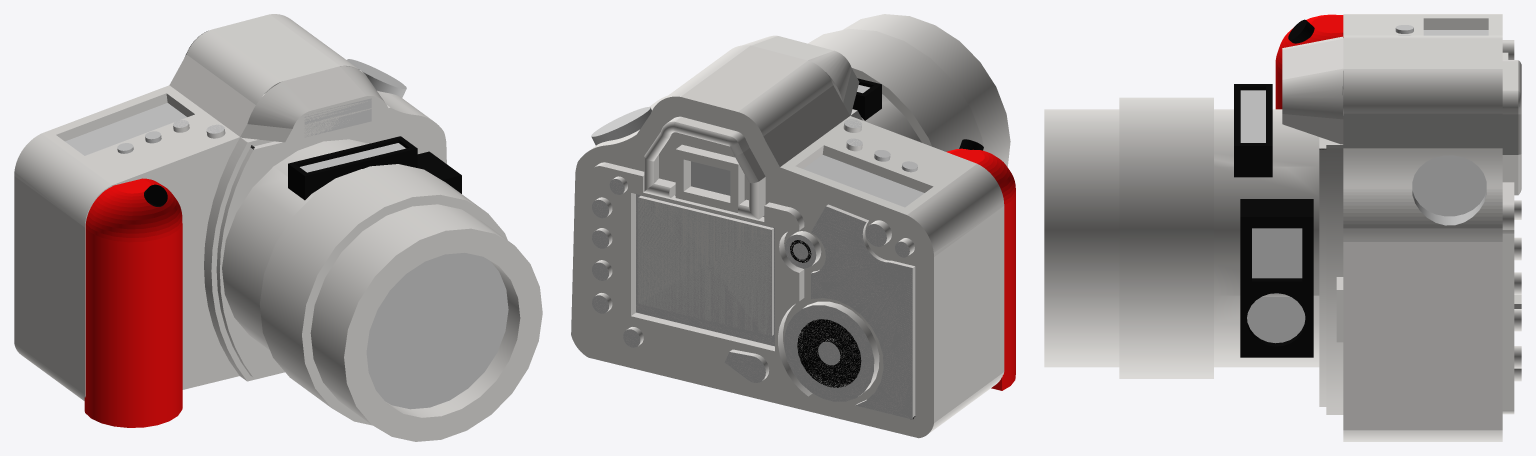
Rendered from model_align.obj.
The picture shows the model from 3 angles, left to right: view 1: azimuth 30°, elevation 25°; view 2: azimuth 150°, elevation 25°; view 3: azimuth 270°, elevation 25°; orthographic projection. The views are drawn at different scales.
Parts seen in each view (by area): view 1: mesh35_mesh35-geometry, mesh33_mesh33-geometry, mesh4_mesh4-geometry, mesh24_mesh24-geometry, mesh36_mesh36-geometry, mesh27_mesh27-geometry, mesh21_mesh21-geometry; view 2: mesh33_mesh33-geometry, mesh35_mesh35-geometry, mesh4_mesh4-geometry, mesh21_mesh21-geometry, mesh24_mesh24-geometry; view 3: mesh33_mesh33-geometry, mesh35_mesh35-geometry, mesh27_mesh27-geometry, mesh21_mesh21-geometry, mesh24_mesh24-geometry, mesh4_mesh4-geometry.
Part boxes in pixels (box(x1,y1,x2,y2)): mesh35_mesh35-geometry: box(222, 139, 542, 441); mesh33_mesh33-geometry: box(14, 14, 446, 400); mesh4_mesh4-geometry: box(84, 178, 182, 426); mesh24_mesh24-geometry: box(288, 136, 417, 200); mesh36_mesh36-geometry: box(304, 98, 371, 137); mesh27_mesh27-geometry: box(417, 151, 461, 193); mesh21_mesh21-geometry: box(347, 59, 406, 97); mesh33_mesh33-geometry: box(571, 35, 1004, 438); mesh35_mesh35-geometry: box(808, 14, 1010, 167); mesh4_mesh4-geometry: box(946, 148, 1015, 388); mesh21_mesh21-geometry: box(591, 107, 651, 145); mesh24_mesh24-geometry: box(852, 78, 881, 120); mesh33_mesh33-geometry: box(1282, 14, 1521, 441); mesh35_mesh35-geometry: box(1044, 97, 1319, 378); mesh27_mesh27-geometry: box(1240, 199, 1313, 357); mesh21_mesh21-geometry: box(1412, 155, 1486, 225); mesh24_mesh24-geometry: box(1234, 84, 1272, 177); mesh4_mesh4-geometry: box(1275, 14, 1343, 109).
Size of the model in its own units: 0.1378 by 0.1026 by 0.1381.
